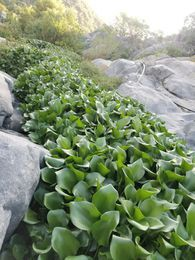water_hyacinth: (42, 122, 194, 259)
